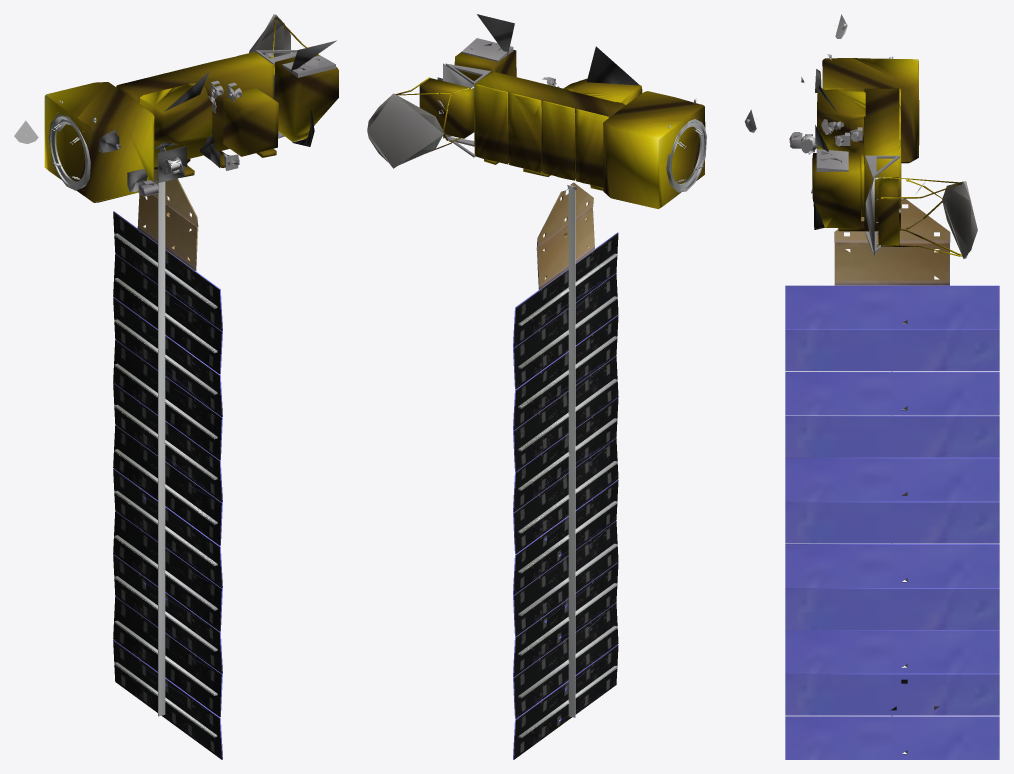
File: aqua-b.glb
The picture shows the model from 3 angles, left to right: view 1: azimuth 30°, elevation 25°; view 2: azimuth 150°, elevation 25°; view 3: azimuth 270°, elevation 25°; orthographic projection. The views are drawn at different scales.
Visible parts, largest first — view 1: tex_01, gold_2, foil_silver, shiny_panel; view 2: tex_01, gold_2, shiny_panel, foil_silver; view 3: shiny_panel, gold_2, tex_01, foil_silver.
Boxes of the visible parts, x1=… form: tex_01: x1=14, y1=14, x2=335, y2=759; gold_2: x1=44, y1=17, x2=338, y2=202; foil_silver: x1=98, y1=40, x2=336, y2=191; shiny_panel: x1=113, y1=211, x2=222, y2=759; tex_01: x1=367, y1=38, x2=756, y2=759; gold_2: x1=395, y1=50, x2=705, y2=209; shiny_panel: x1=513, y1=232, x2=618, y2=759; foil_silver: x1=437, y1=14, x2=639, y2=138; shiny_panel: x1=785, y1=285, x2=999, y2=759; gold_2: x1=812, y1=58, x2=962, y2=256; tex_01: x1=789, y1=14, x2=977, y2=754; foil_silver: x1=815, y1=69, x2=874, y2=255.
Bounding box in the file's own units: 9.36 × 17.78 × 5.08.
Materials: 5 (4 with a texture image).
